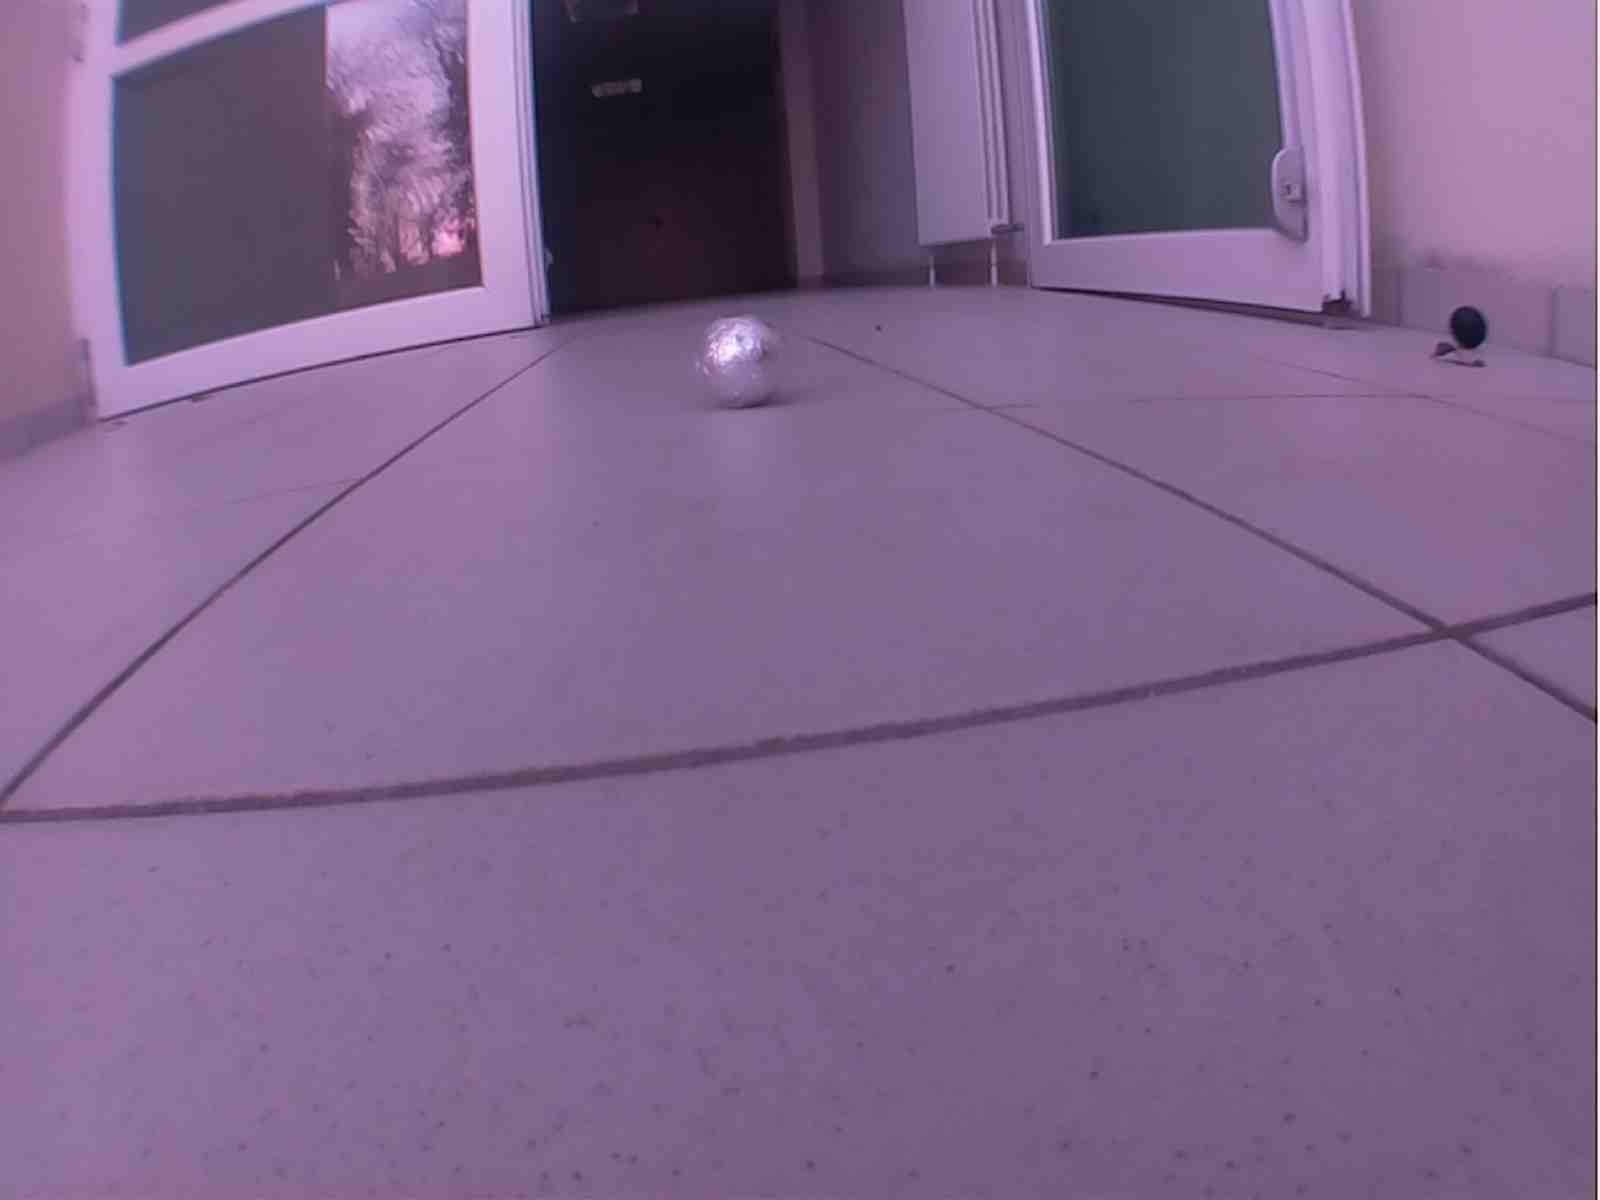bianca: (690, 311, 787, 411)
nera: (1448, 305, 1489, 350)
